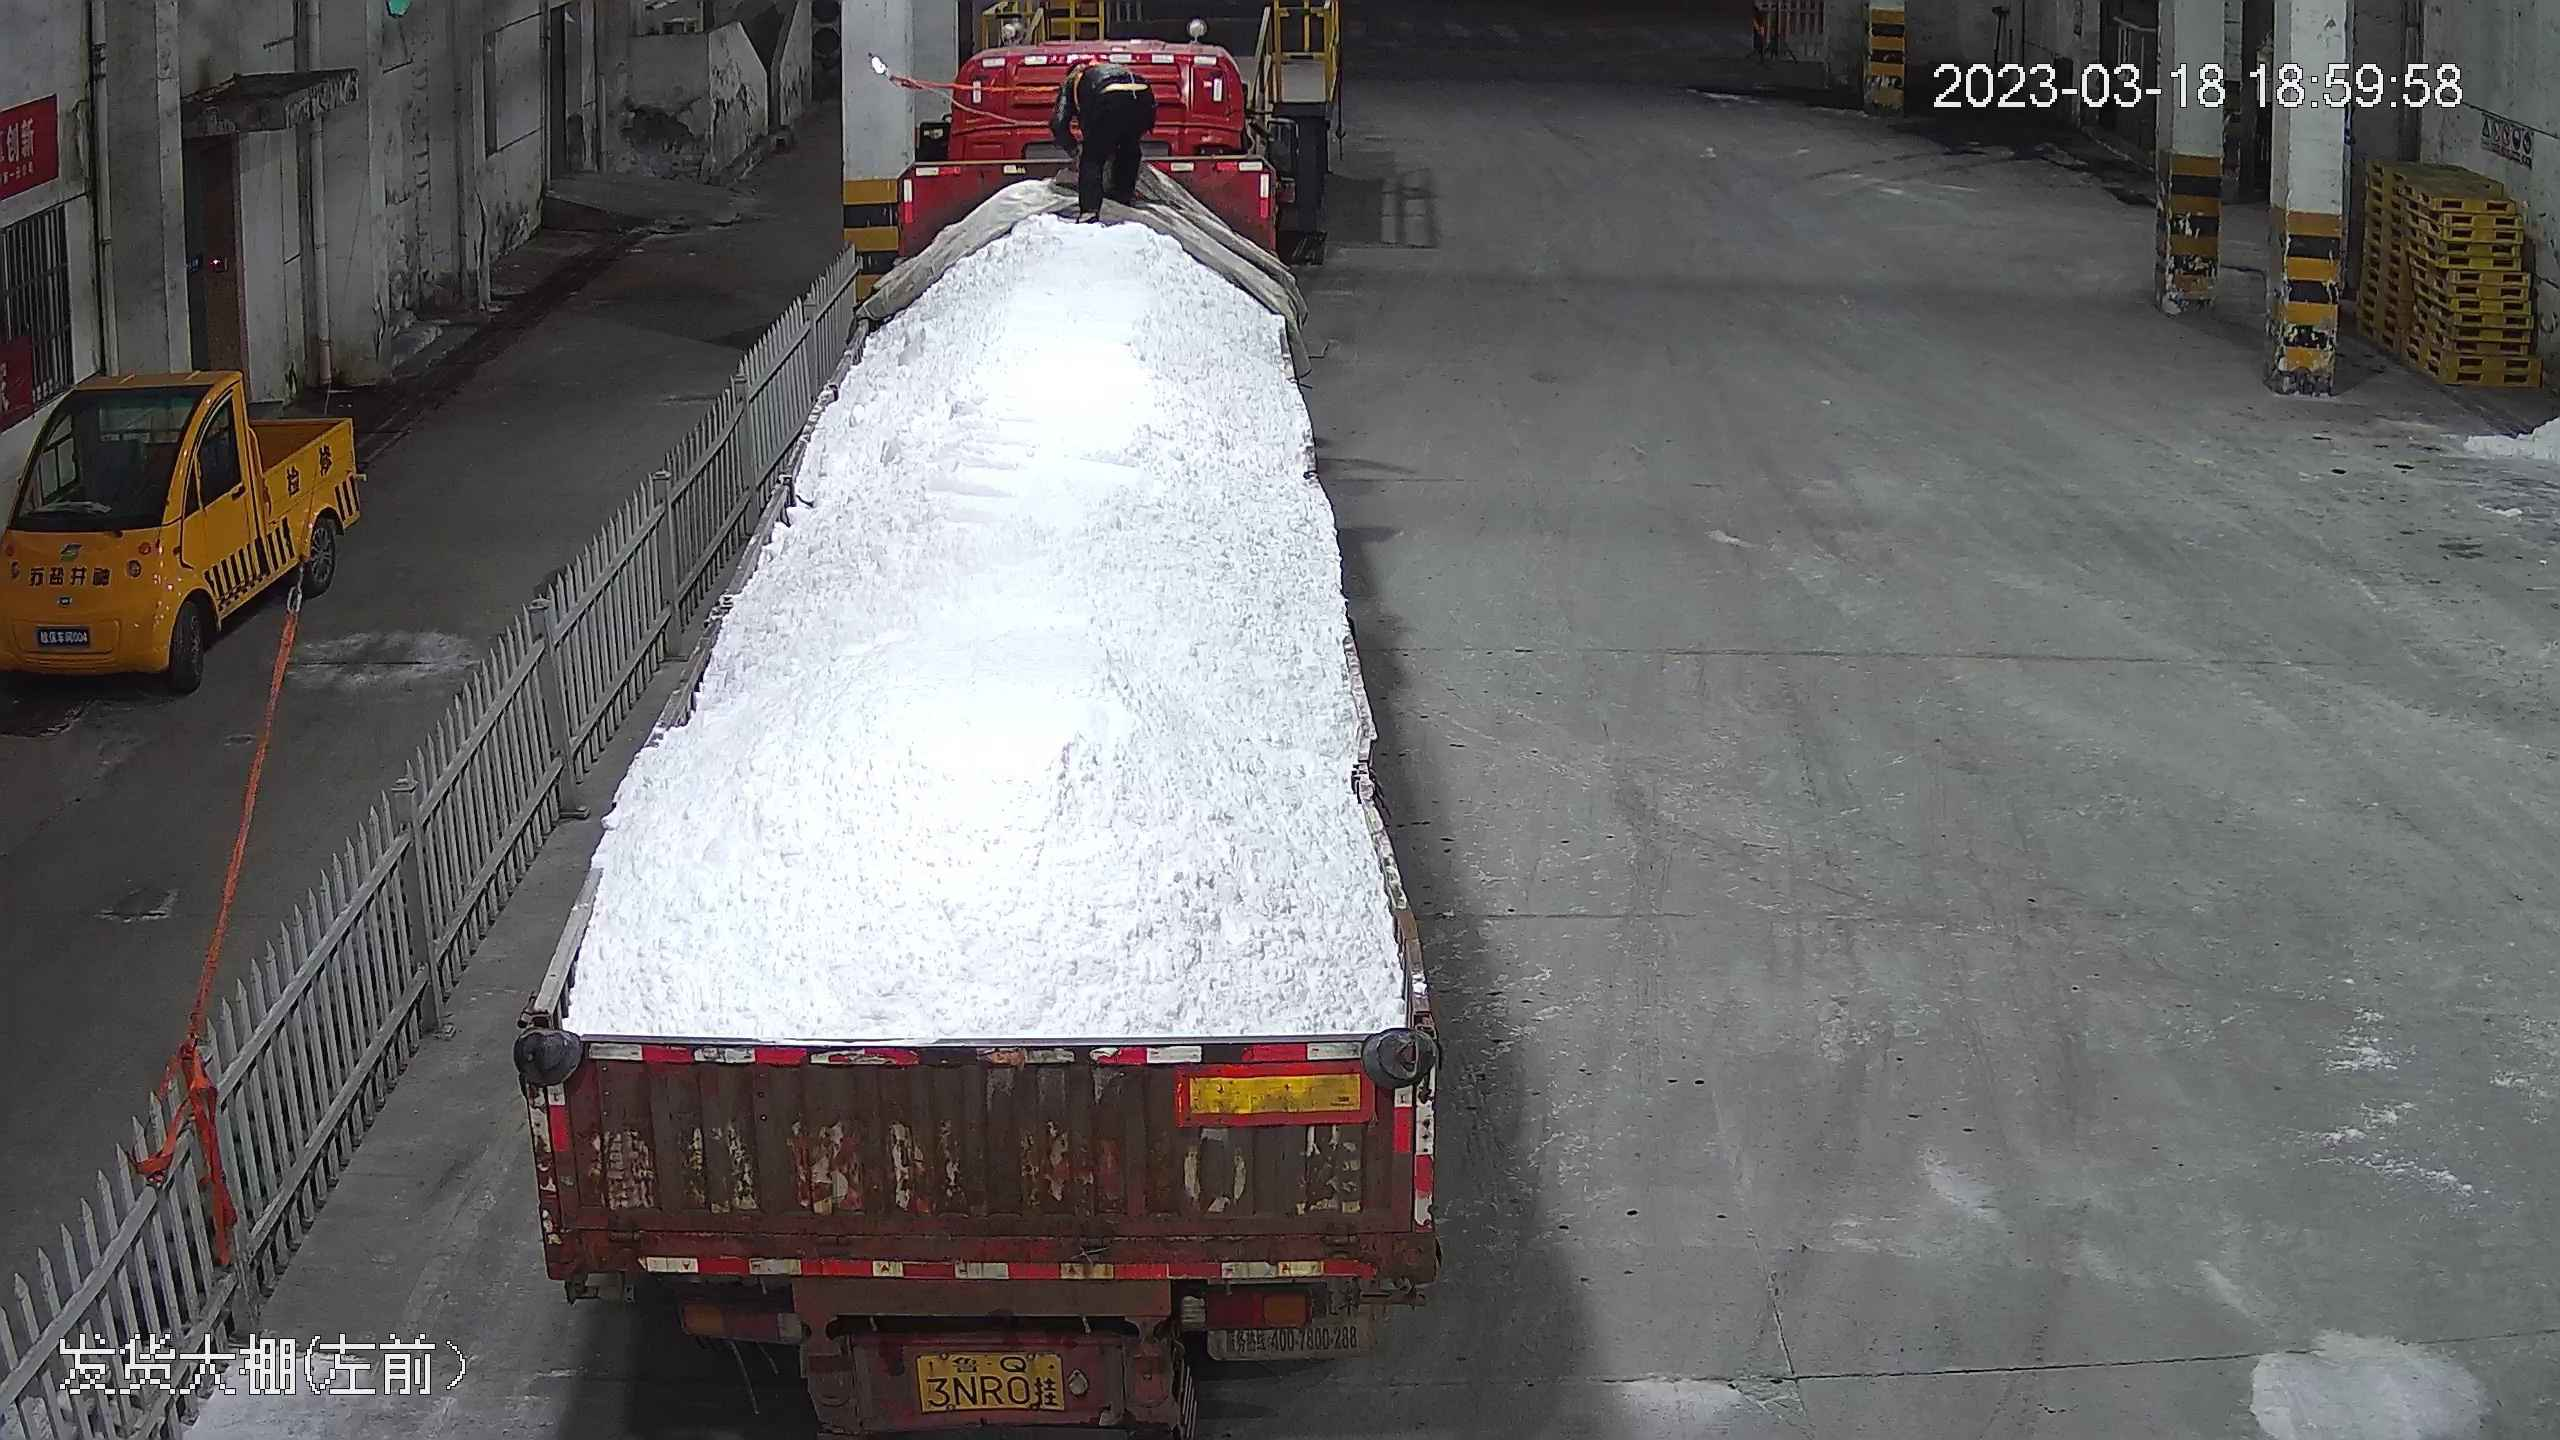belt: (1074, 58, 1130, 98)
people: (1052, 50, 1159, 228)
truck: (478, 6, 1466, 1418)
